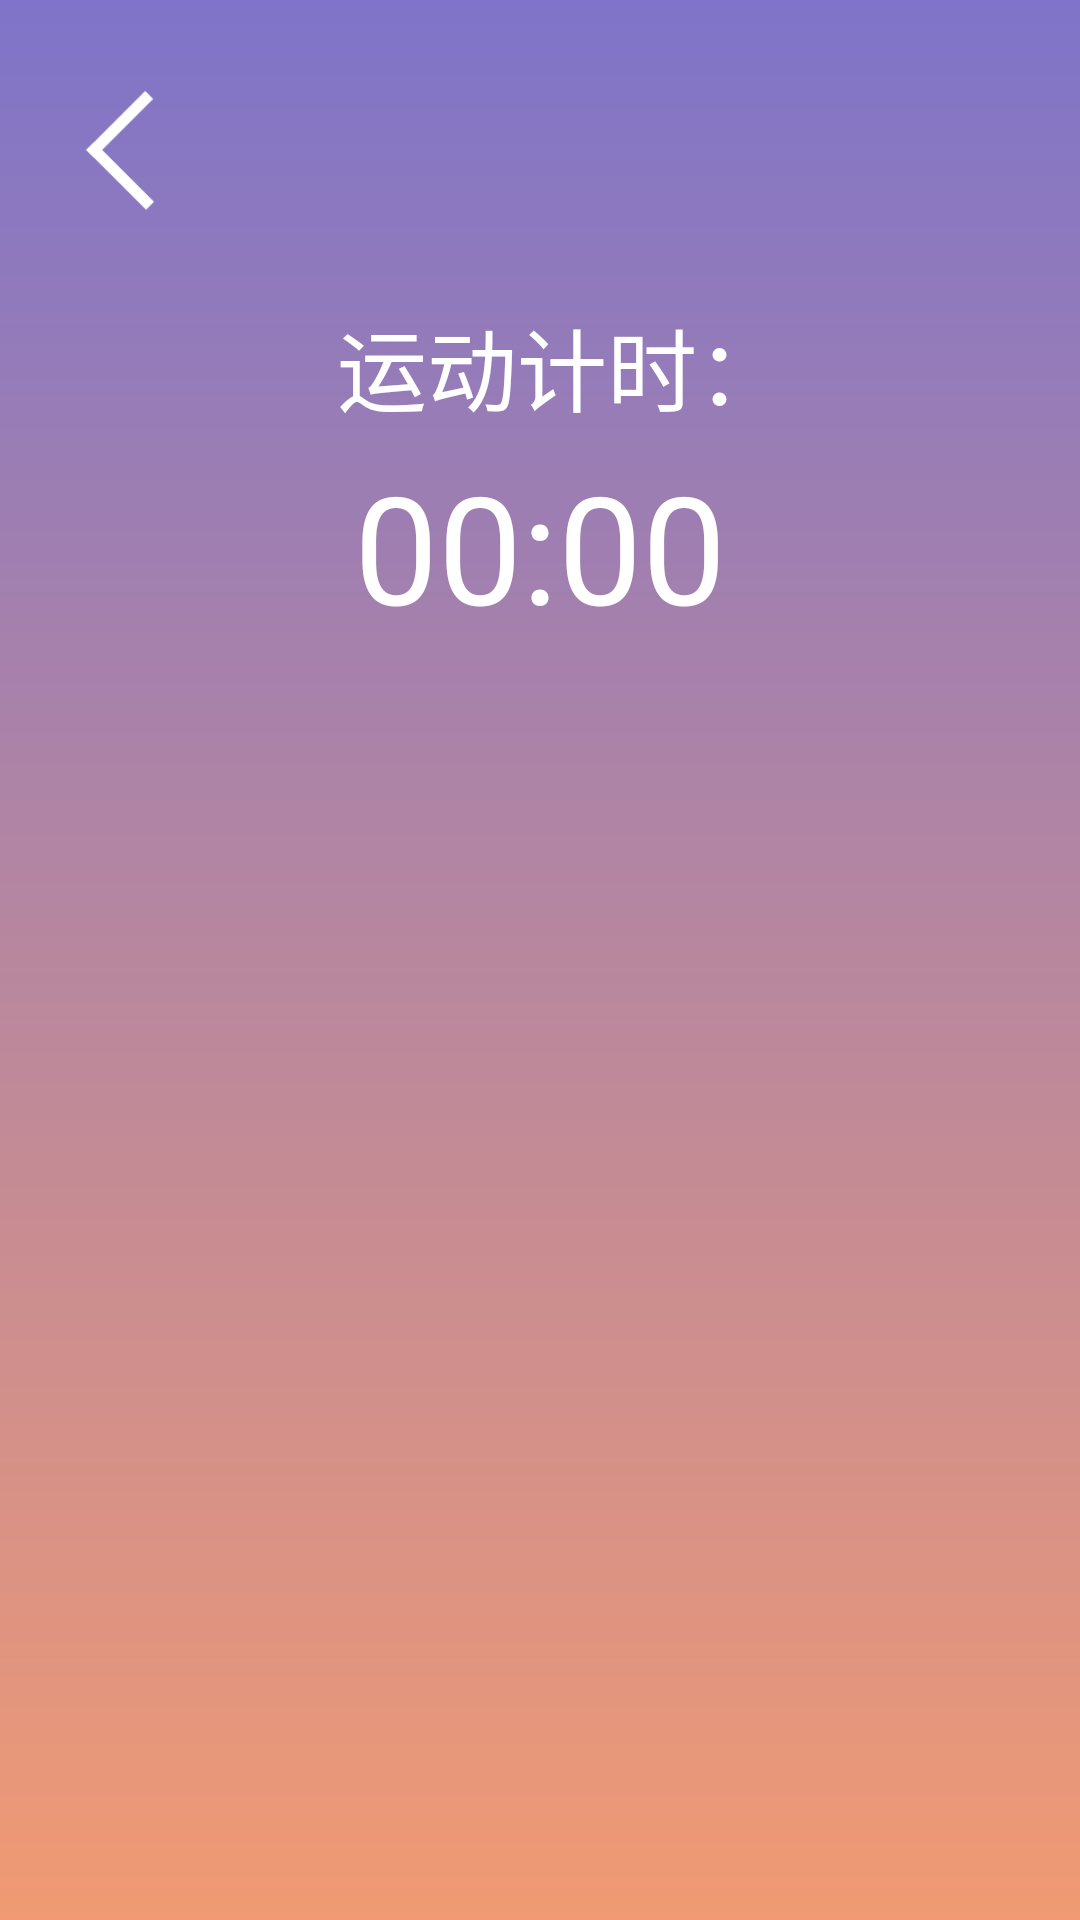

Icon click points for this 1080w x 1920h phone screenshot, format (x,y):
back: (120,150)
